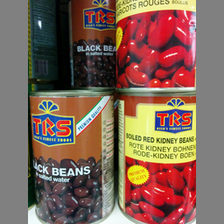beans: (29, 92, 118, 224), (118, 93, 197, 224)
